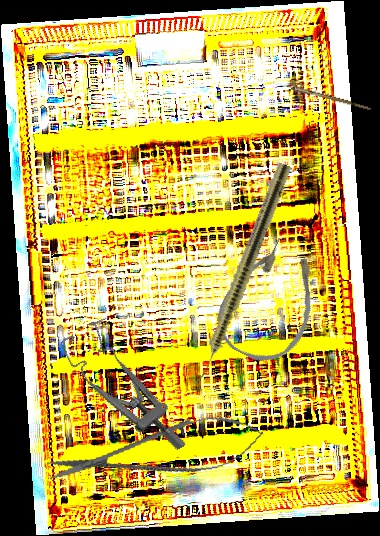Cannula: (206, 228, 336, 374)
Handpiece: (190, 161, 293, 389)
Micro Scissor: (43, 405, 269, 499)
Speculum: (57, 309, 188, 476)
Surgical Spoon: (263, 78, 372, 111)
